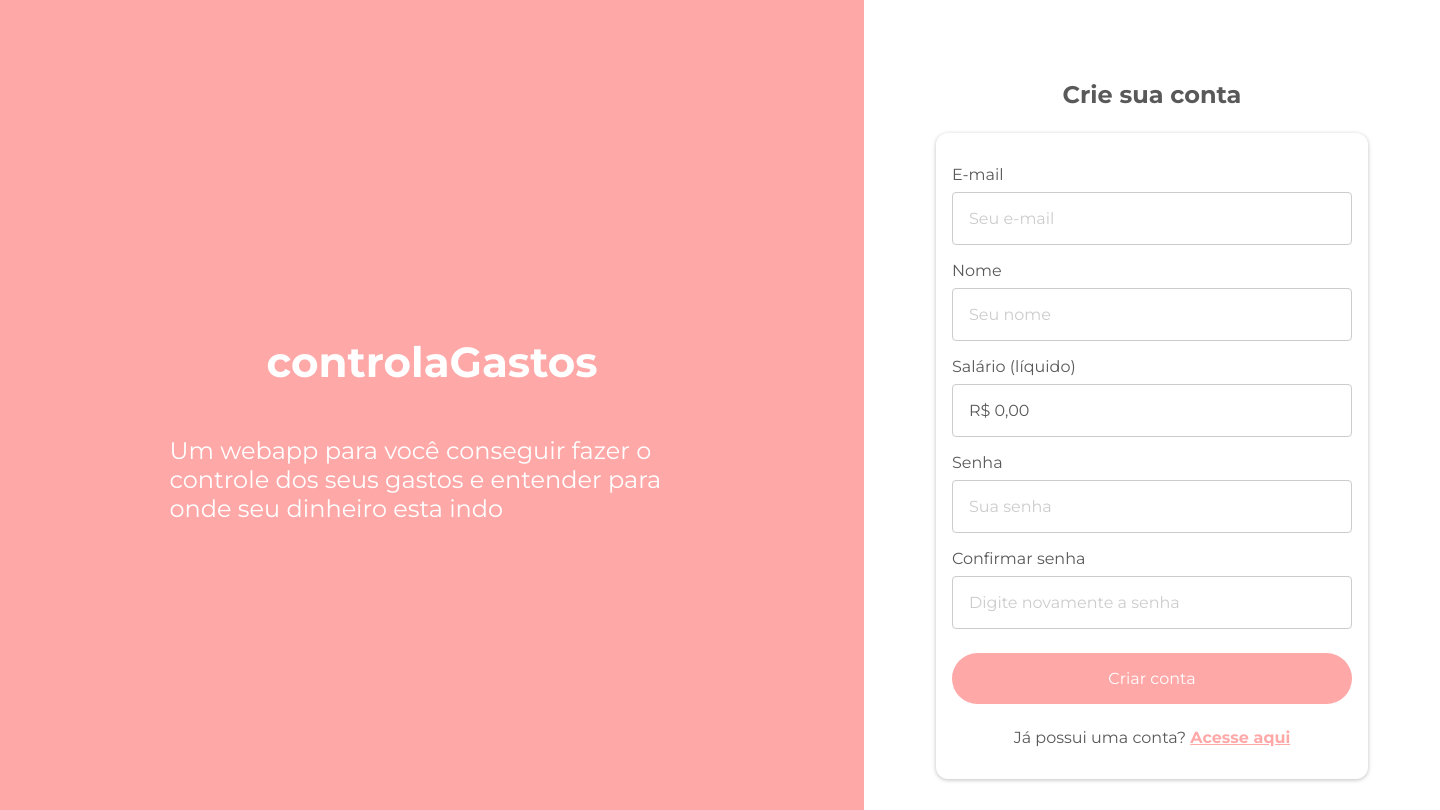
Test: CreateAccount page › should return error in both inputs when clicking submit without filling them
Click the button "Criar conta".
click(1152, 678)  # box [952,652,1352,704]
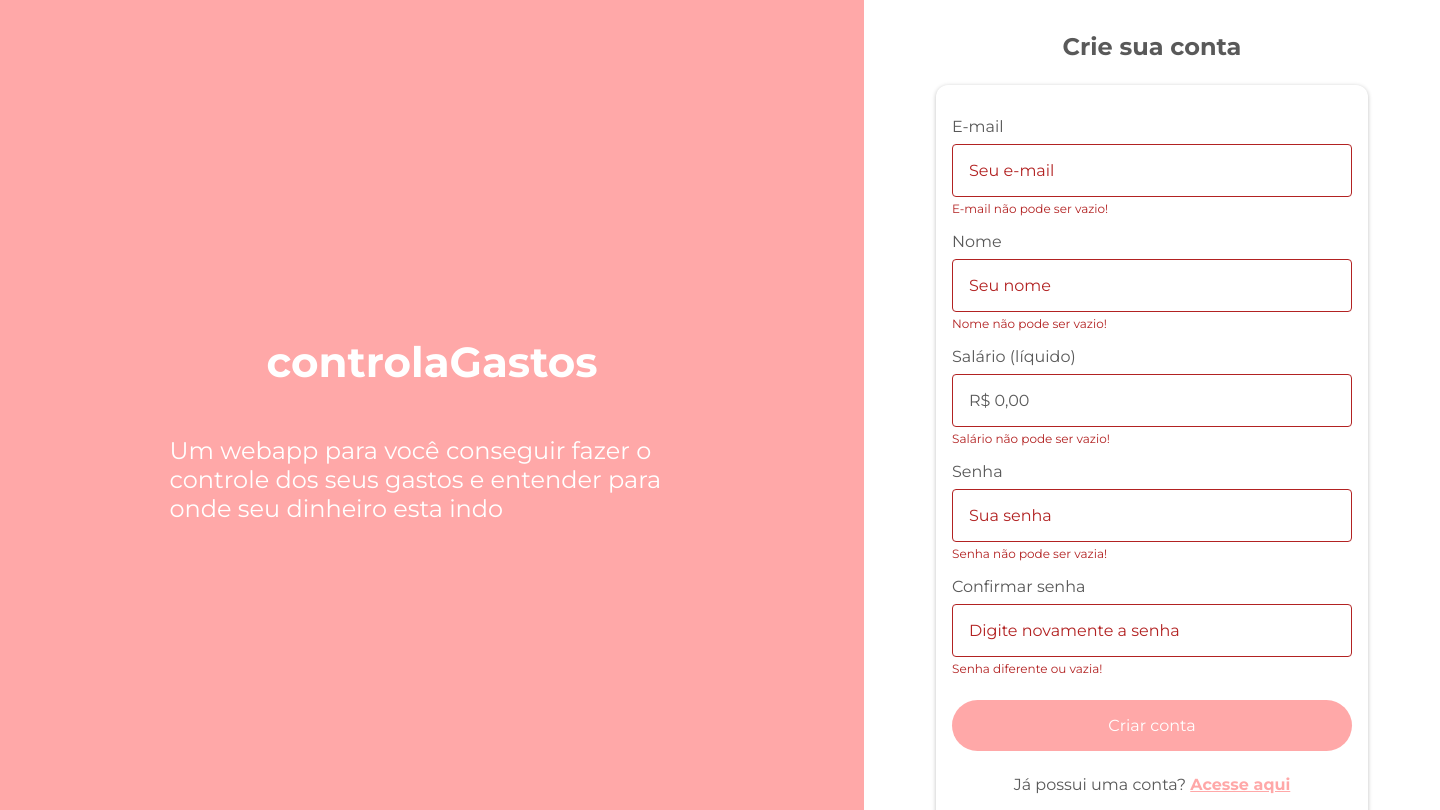
Now the text "E-mail não pode ser vazio!" is shown, box [952,201,1108,216]
Now the text "Nome não pode ser vazio!" is shown, box [952,316,1107,331]
Now the text "Senha diferente ou vazia!" is shown, box [952,661,1102,676]
